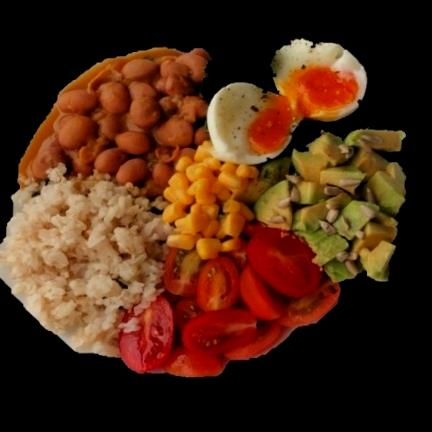beans: (21, 48, 206, 191)
corn: (161, 140, 259, 260)
egg: (207, 40, 366, 161)
green_vegetables: (252, 131, 404, 281)
rice: (2, 175, 166, 347)
tomato: (118, 222, 338, 377)
